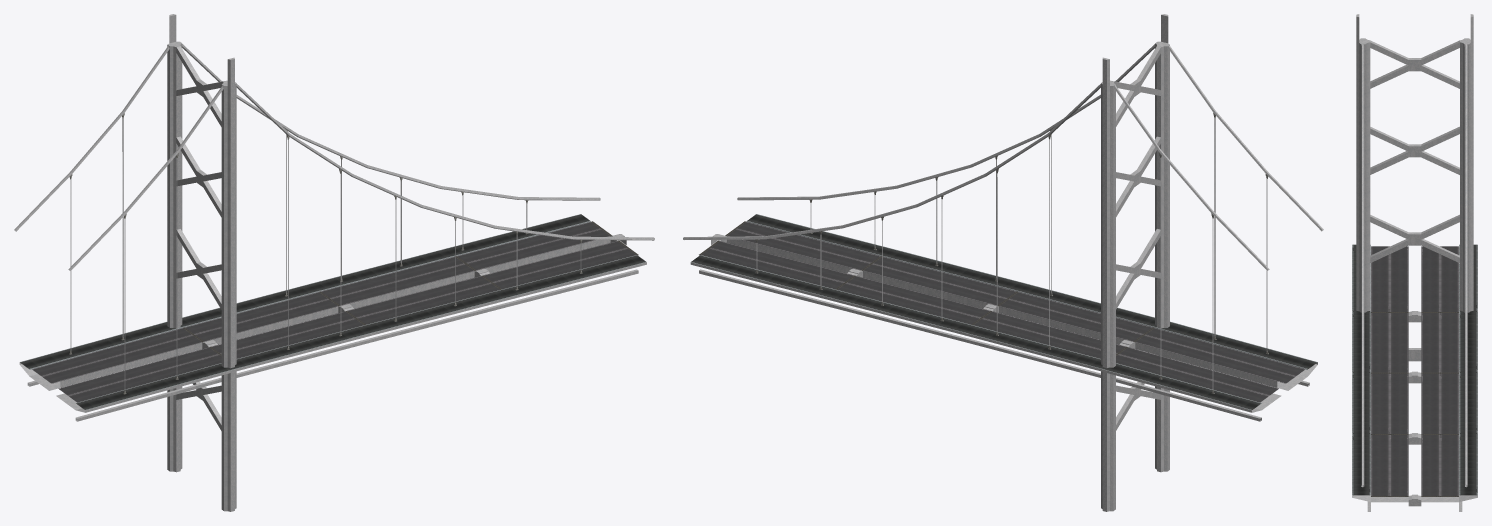
File: baybridge2_sfse.obj
3 views of the same model, side by side, from view 1: azimuth 30°, elevation 25°; view 2: azimuth 150°, elevation 25°; view 3: azimuth 270°, elevation 25° (orthographic). The views are drawn at different scales.
Parts seen in each view (by area): view 1: baybridge2_SFSe; view 2: baybridge2_SFSe; view 3: baybridge2_SFSe.
Boxes of the visible parts, <box> form: baybridge2_SFSe: <box>14,14,654,511</box>; baybridge2_SFSe: <box>683,14,1323,511</box>; baybridge2_SFSe: <box>1352,14,1477,511</box>.
Bounding box in the file's own units: 205 × 151 × 40.
6 materials, 6 textured.
